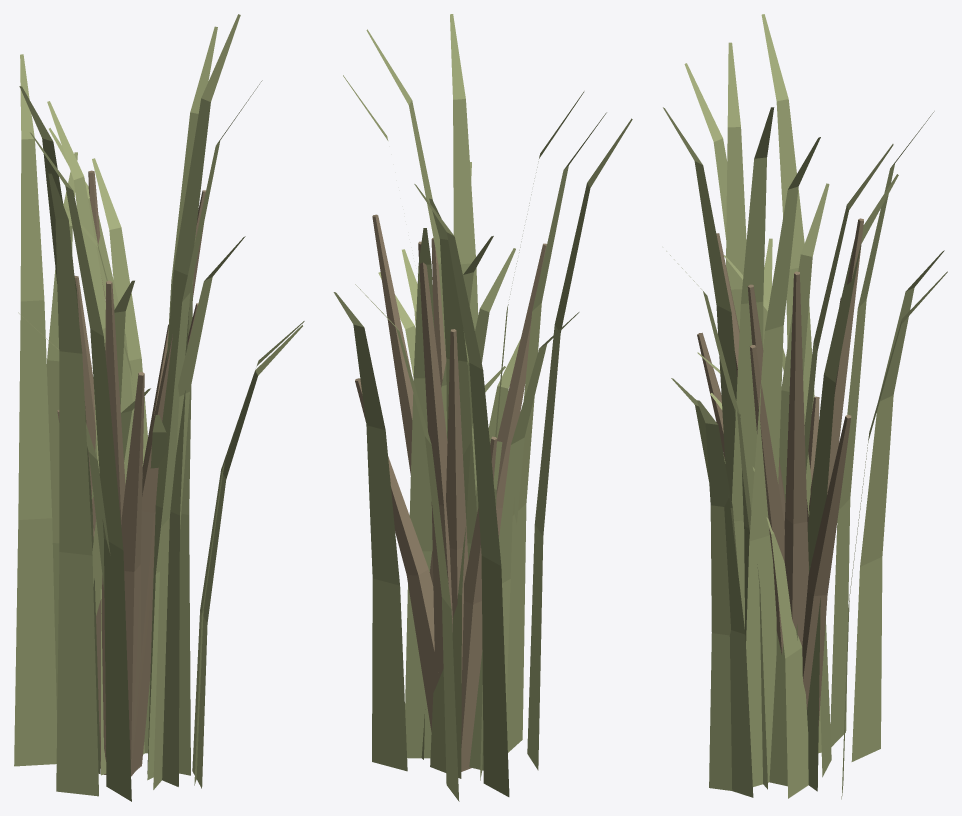
The model's file is desert-canyons-and-oases-desert-broom-d432cb05__21005.glb.
The picture shows the model from 3 angles, left to right: view 1: azimuth 30°, elevation 25°; view 2: azimuth 150°, elevation 25°; view 3: azimuth 270°, elevation 25°; orthographic projection. The views are drawn at different scales.
Visible parts, largest first — view 1: desert-broom; view 2: desert-broom; view 3: desert-broom.
Part boxes in pixels (<box>): desert-broom: <box>14,14,304,801</box>; desert-broom: <box>333,14,632,801</box>; desert-broom: <box>663,14,947,799</box>.
Size of the model in its own units: 0.5426 by 1.47 by 0.5307.
